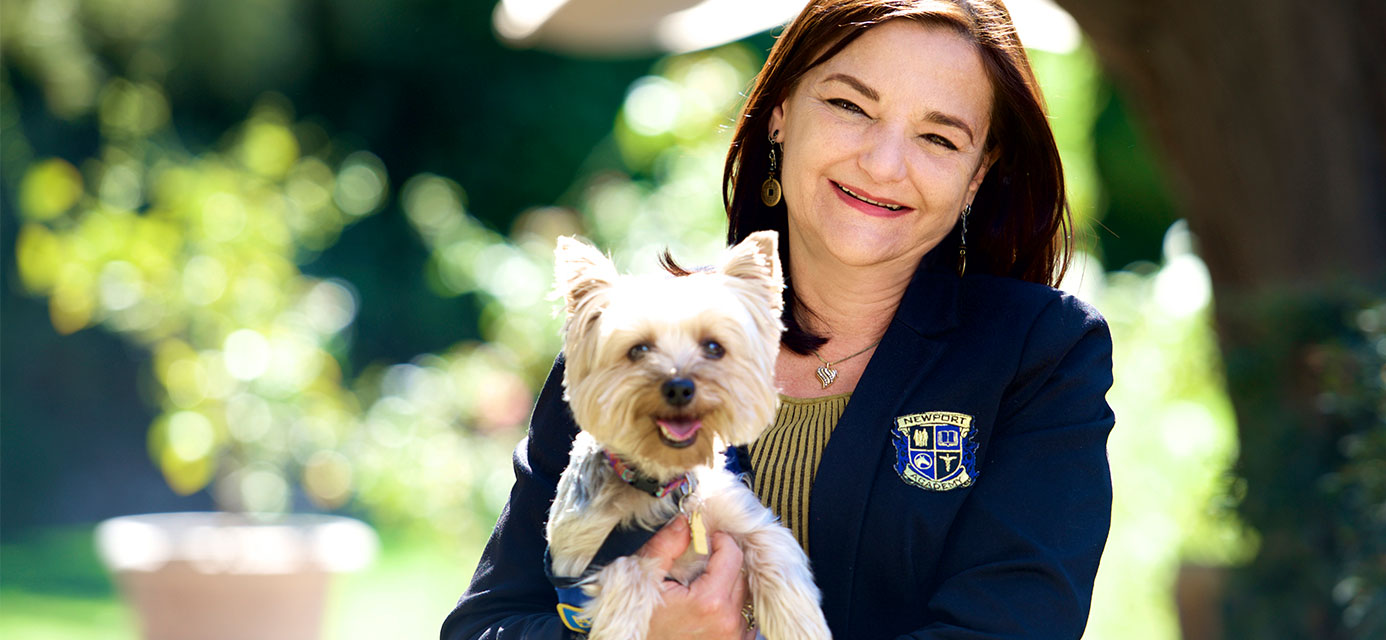pet: (558, 234, 767, 549)
